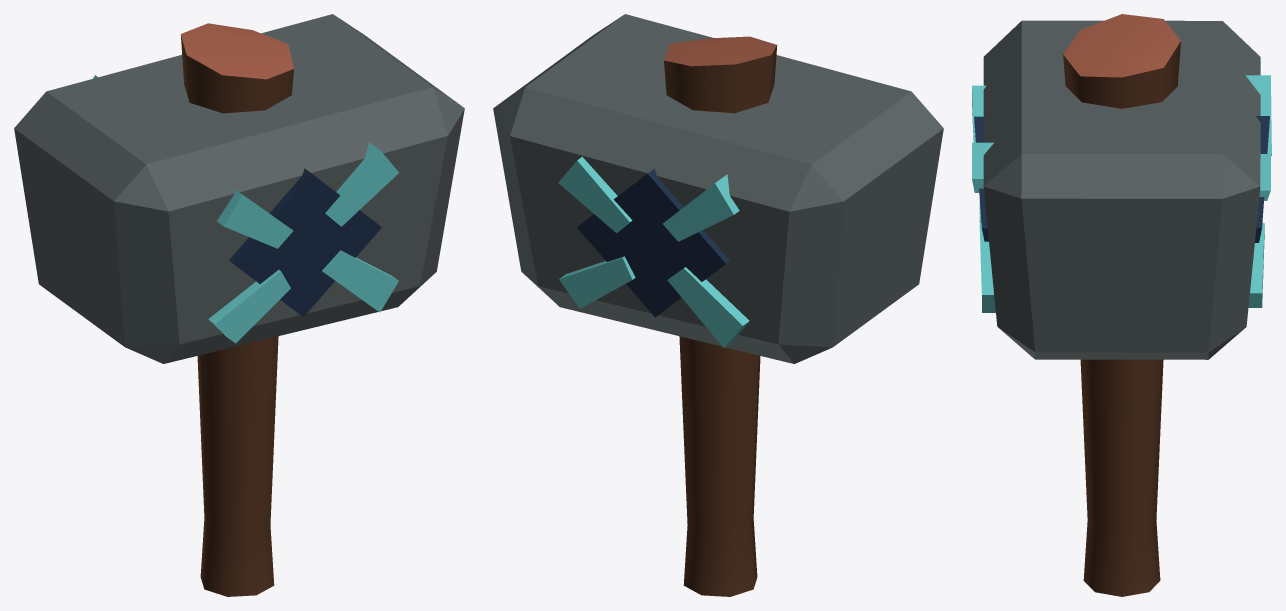
The model's file is Hammer_RHand_11.fbx.
3 views of the same model, side by side, from view 1: azimuth 30°, elevation 25°; view 2: azimuth 150°, elevation 25°; view 3: azimuth 270°, elevation 25° (orthographic).
Parts seen in each view (by area): view 1: Hammer_RHand_11; view 2: Hammer_RHand_11; view 3: Hammer_RHand_11.
Part boxes in pixels (x1,y1,x2,y2): Hammer_RHand_11: [14, 14, 464, 596]; Hammer_RHand_11: [493, 14, 943, 596]; Hammer_RHand_11: [972, 14, 1271, 596].
Size of the model in its own units: 37.51 by 55.71 by 27.61.
